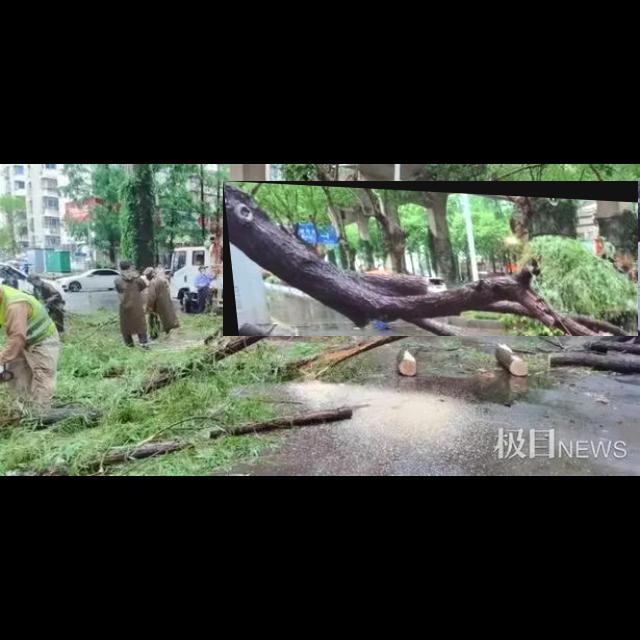fallen_tree: (223, 181, 639, 337)
